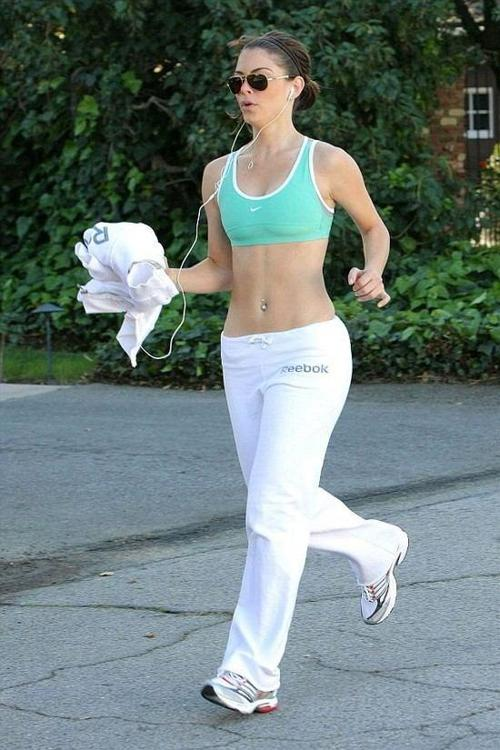person: (165, 28, 410, 716)
